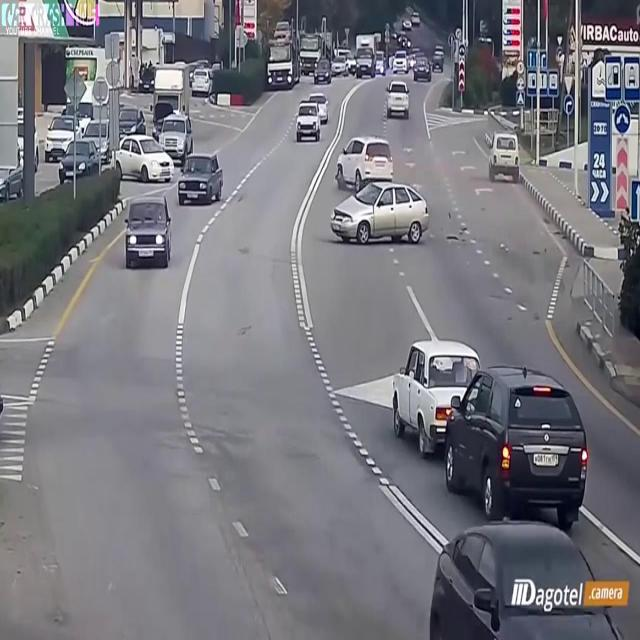accident: (328, 130, 469, 250)
non_accident: (385, 329, 591, 541), (41, 58, 229, 280), (294, 88, 332, 147)
